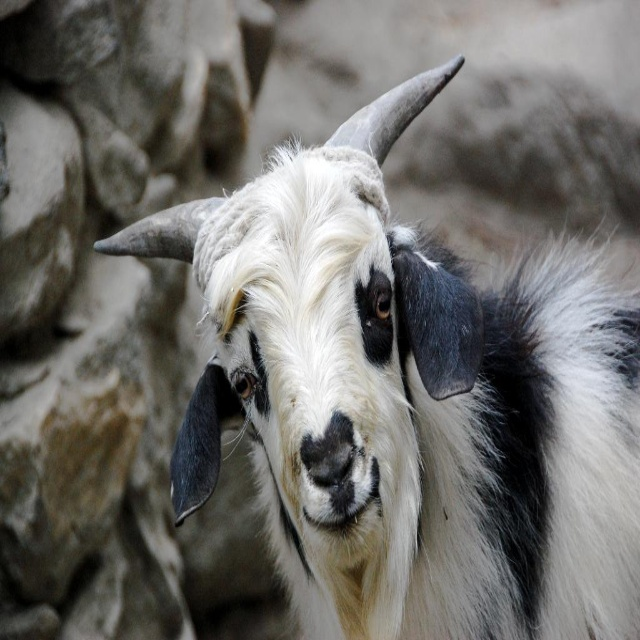Goat: (113, 54, 634, 640)
